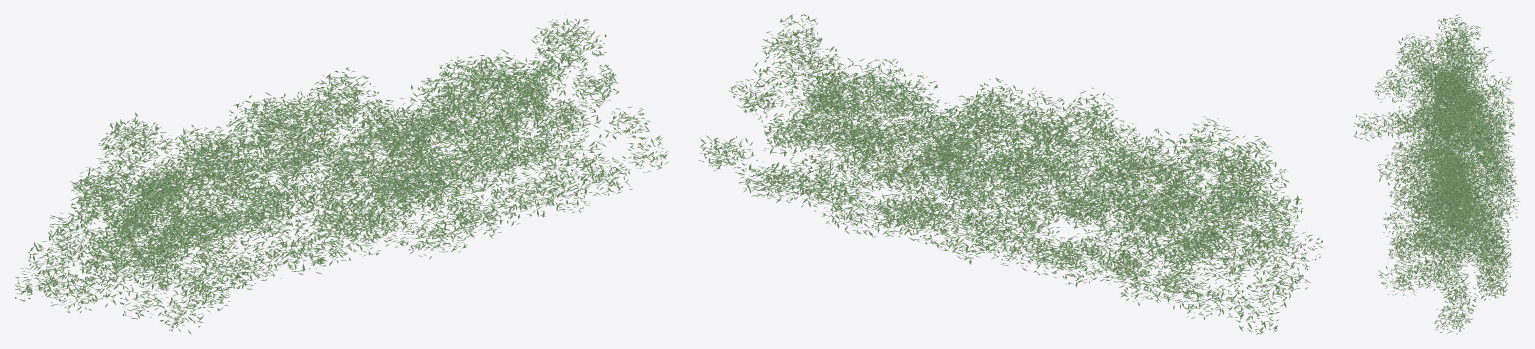
Rendered from xiyuan-vegetation-26-near.glb.
The picture shows the model from 3 angles, left to right: view 1: azimuth 30°, elevation 25°; view 2: azimuth 150°, elevation 25°; view 3: azimuth 270°, elevation 25°; orthographic projection. The views are drawn at different scales.
Parts seen in each view (by area): view 1: vegetation cedar leaves.001; view 2: vegetation cedar leaves.001; view 3: vegetation cedar leaves.001.
Boxes of the visible parts, box(x1,y1,x2,y2) form: vegetation cedar leaves.001: box(15, 14, 668, 334); vegetation cedar leaves.001: box(699, 14, 1322, 334); vegetation cedar leaves.001: box(1353, 14, 1519, 334).
Bounding box in the file's own units: 38.66 × 11.2 × 12.02.
